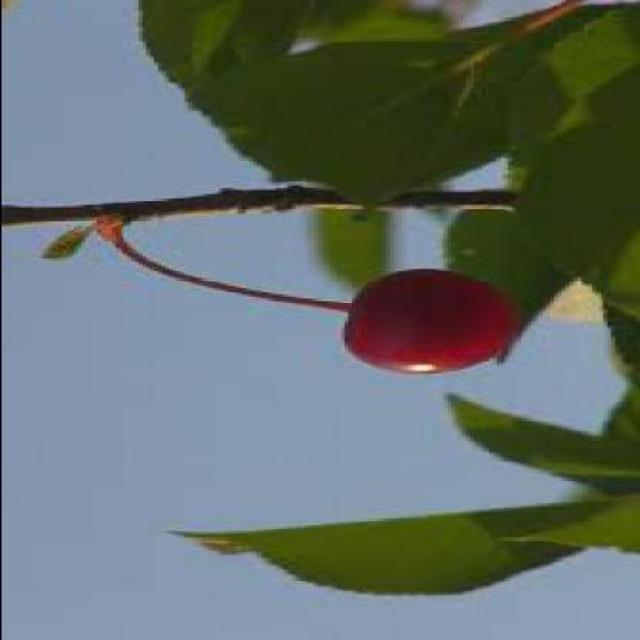BIODEGRADABLE: (267, 41, 548, 222), (160, 497, 637, 597), (438, 396, 636, 499), (339, 269, 518, 377)
